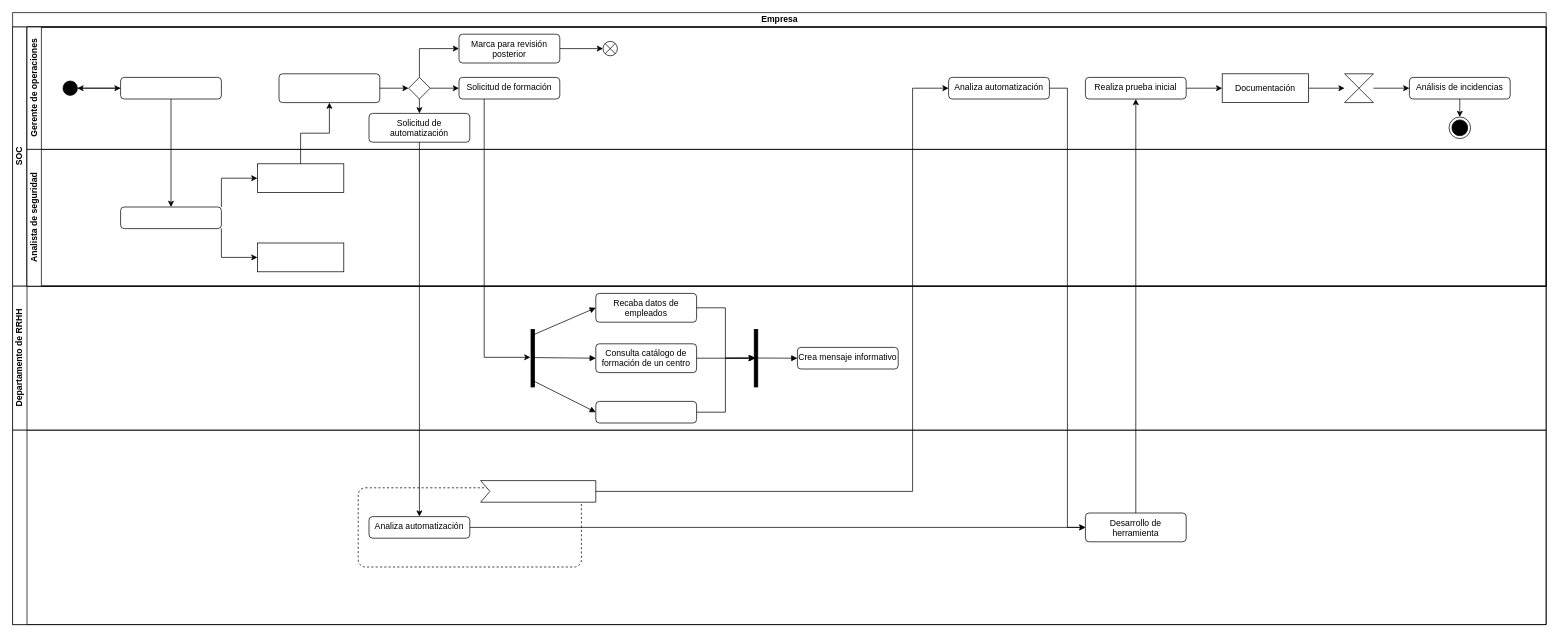
Some shapes in this 1559 by 637 pixel diagram are drawn without their labels. Here are the shapes that lost their labels. From the top down, the box of each, then its label:
(120, 77, 221, 99): Genera solicitud
(278, 73, 380, 103): Determina si hay posibilidades de mejora
(257, 163, 344, 193): Listado de incidencias
(120, 206, 221, 229): Evalúa incidencias
(257, 242, 344, 272): Listado de empleados implicados
(595, 401, 697, 423): Contrata cursos
(480, 480, 596, 502): Presupuesto > 10000€
(12, 429, 1546, 625): Departamento de desarrollo
